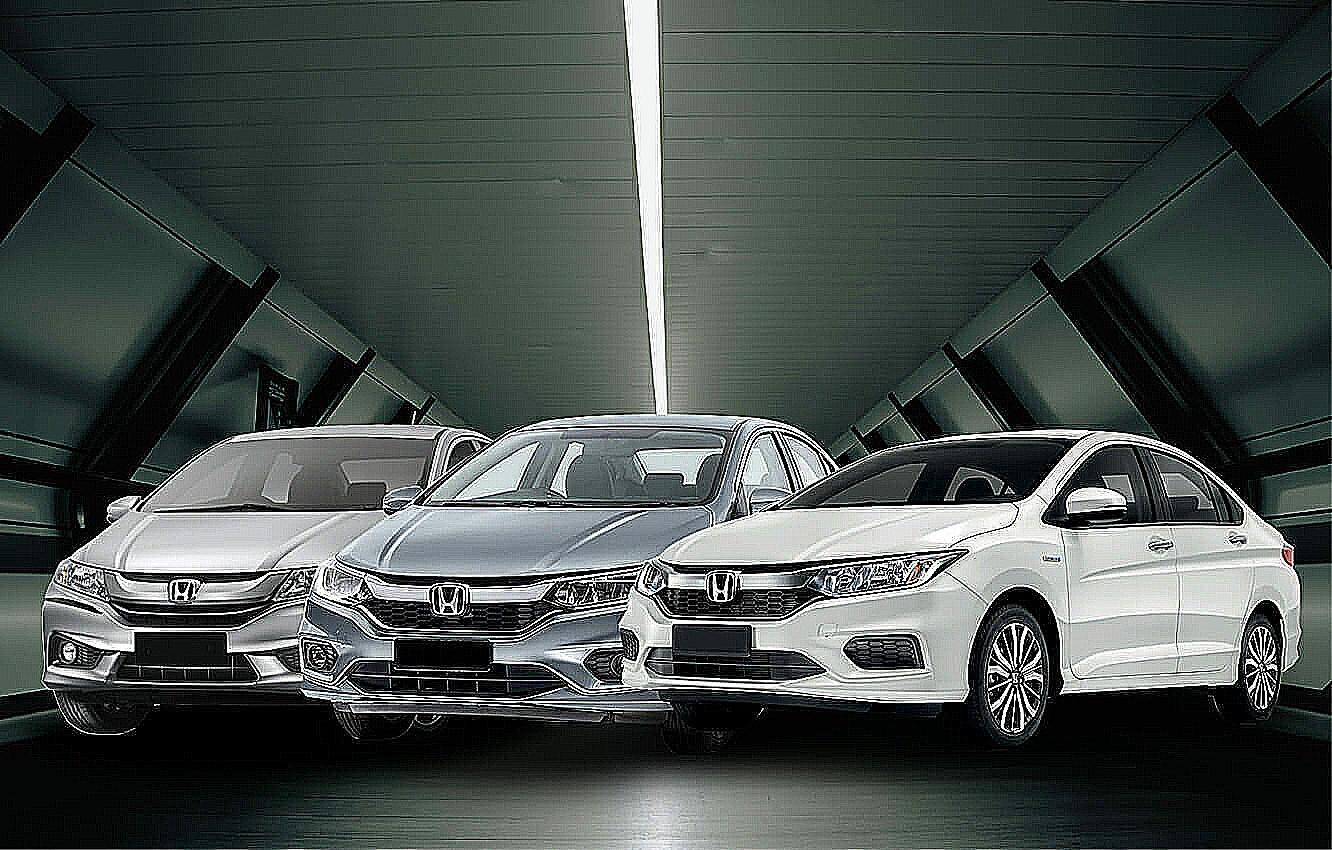Car hood: (333, 505, 717, 580), (655, 502, 1027, 569), (60, 507, 390, 580)
Fender - -F-L-: (946, 495, 1079, 692)
Fender - -R-L-: (1232, 495, 1289, 683)
Front bumper: (613, 592, 1000, 719), (290, 597, 669, 726), (32, 594, 310, 699)
Headlight - -L-: (805, 545, 966, 601), (539, 562, 645, 617), (269, 562, 325, 610)
Headlight - -R-: (39, 545, 119, 614), (307, 550, 380, 622), (629, 554, 675, 596)
Passenger-s door - -F-L-: (1065, 432, 1180, 681)
Passenger-s door - -R-L-: (1158, 446, 1264, 677)
Rear bumper: (1274, 598, 1315, 694)
Rear light - -L-: (1274, 529, 1299, 568)
Side bumper - -L-: (1054, 667, 1263, 704)
Side mirror - -L-: (1049, 482, 1131, 531), (732, 479, 799, 524)
Side mirror - -R-: (94, 479, 154, 527), (374, 477, 425, 521)
